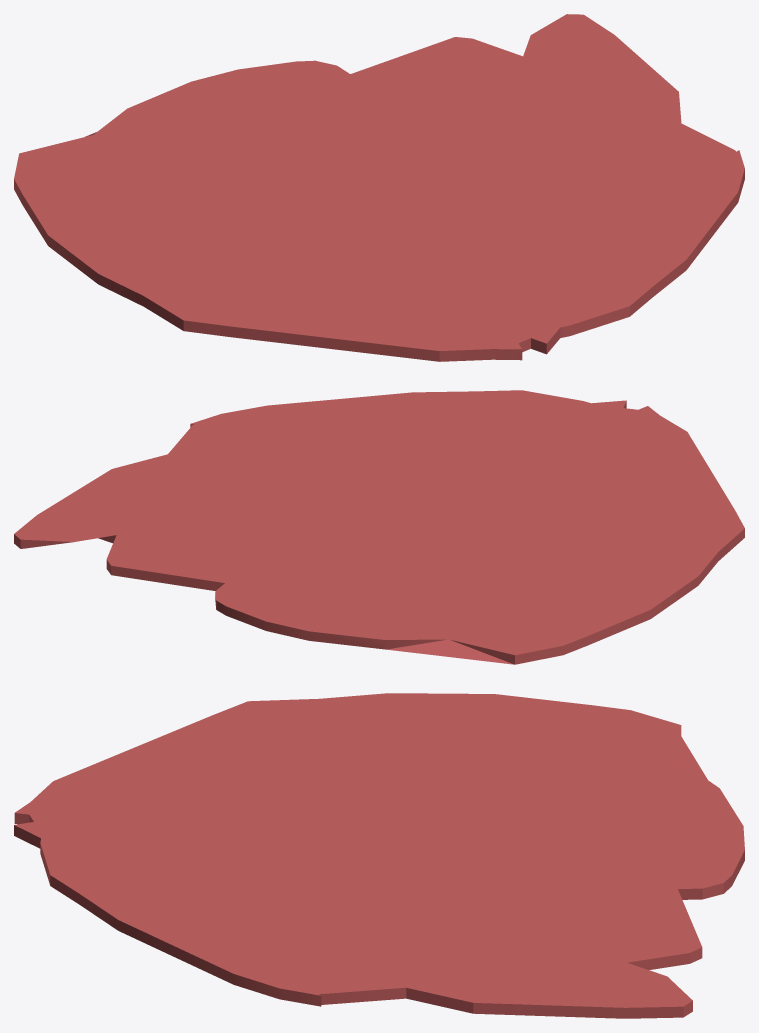
File: Coral_Shelf_03.fbx
3 renders of one model, top to bottom at view 1: azimuth 30°, elevation 25°; view 2: azimuth 150°, elevation 25°; view 3: azimuth 270°, elevation 25°, orthographic. The views are drawn at different scales.
Parts seen in each view (by area): view 1: Model; view 2: Model; view 3: Model.
Part boxes in pixels (x1=…): Model: x1=14, y1=14, x2=744, y2=361; Model: x1=14, y1=390, x2=744, y2=664; Model: x1=14, y1=693, x2=744, y2=1018.
Bounding box in the file's own units: 561 × 9.08 × 551.
